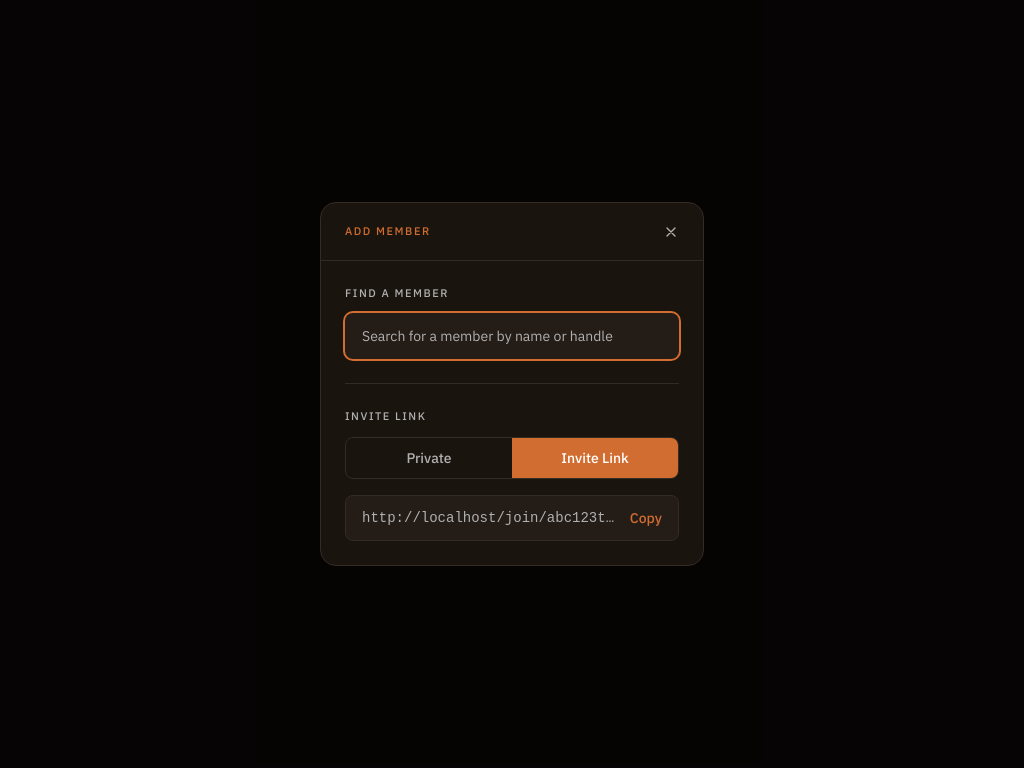
Test case: AddMemberModal › Invite link section › shows "Copied!" feedback after clicking Copy
What coordinates should you click on to do the following:
click the button "Copy"
I would click on:
 (646, 518)
Its box is [630, 508, 662, 528].
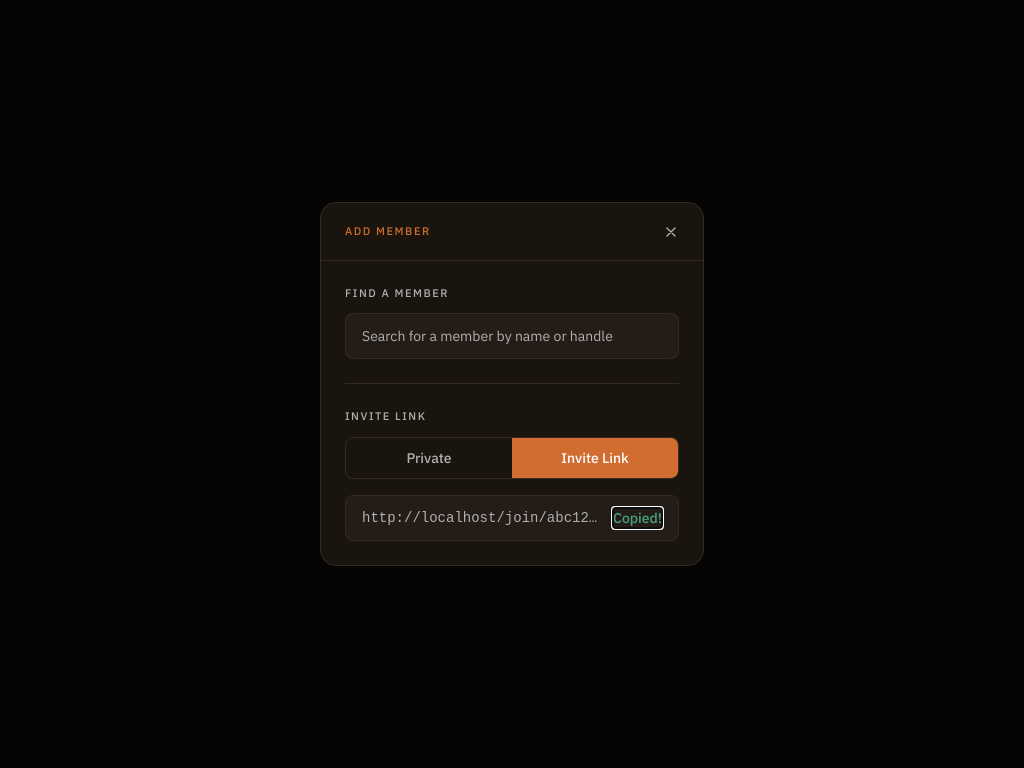
Check: the button "Copied!" is shown, box [613, 508, 662, 528]
